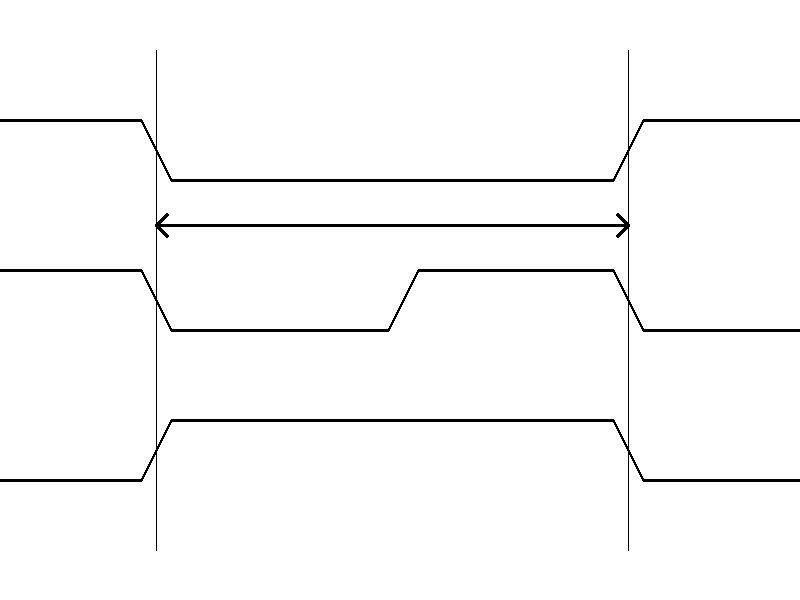double_arrow: (156, 210, 628, 240)
